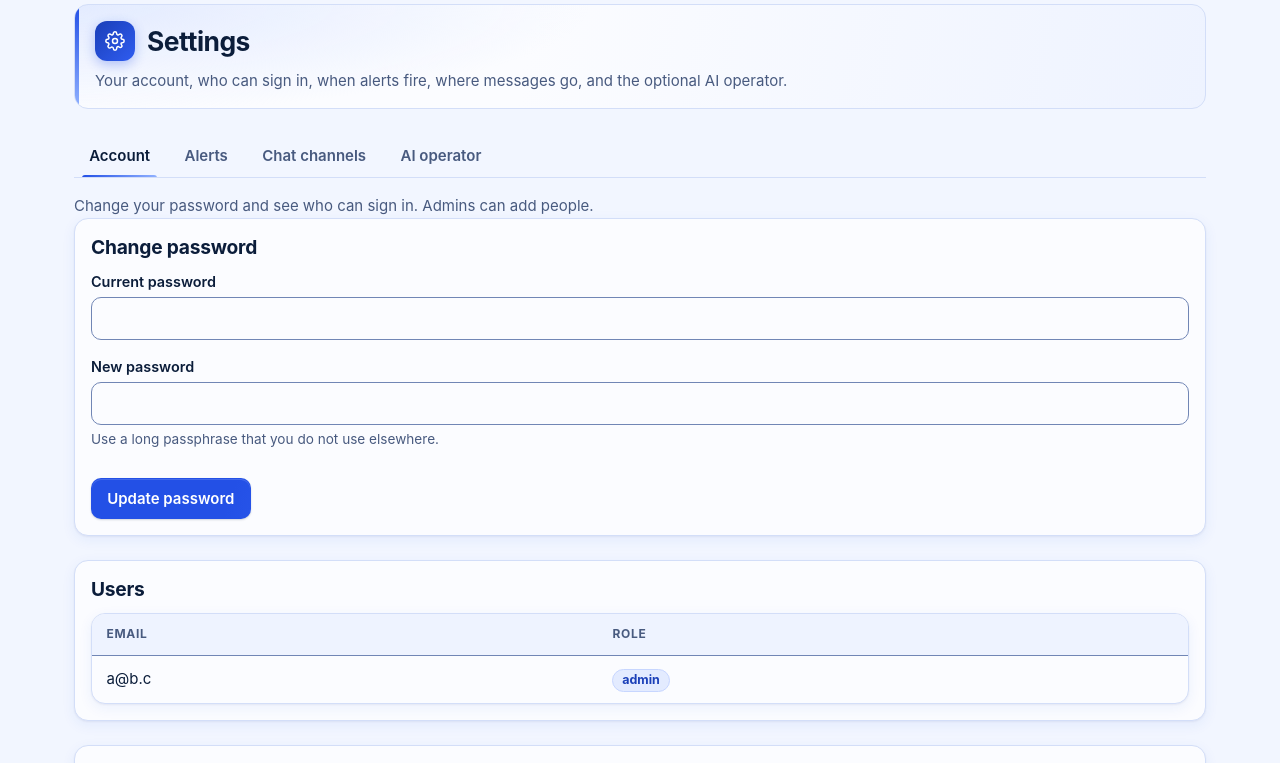
Test: Settings M6 › shows link code in memory and clears it without persisting
Click the tab "Chat channels" at (314, 155), box x1=247 y1=133 x2=381 y2=177
(page scrolled)
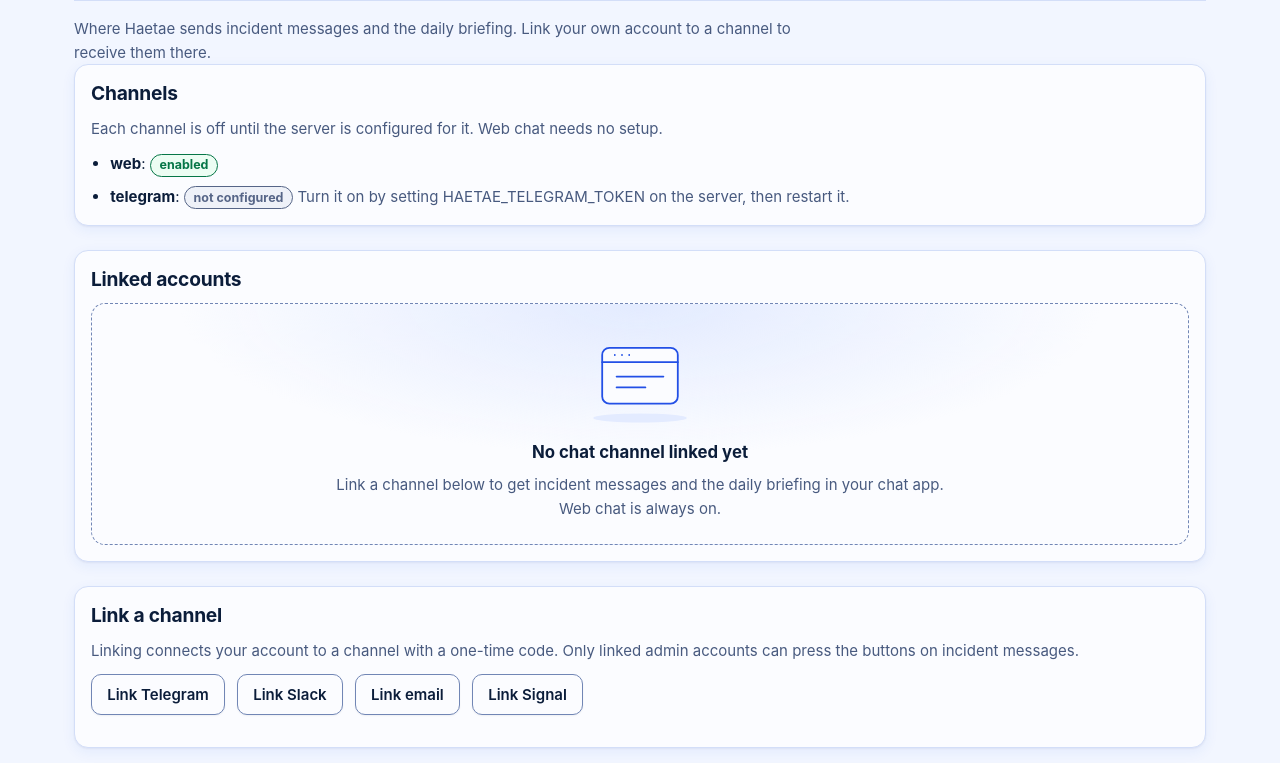
Check: the text "web" is shown, box x1=110 y1=154 x2=141 y2=173
Check: the text "HAETAE_TELEGRAM_TOKEN" is shown, box x1=443 y1=187 x2=645 y2=206
Click the button "Link Telegram" at (158, 695), box x1=91 y1=674 x2=225 y2=715
(page scrolled)
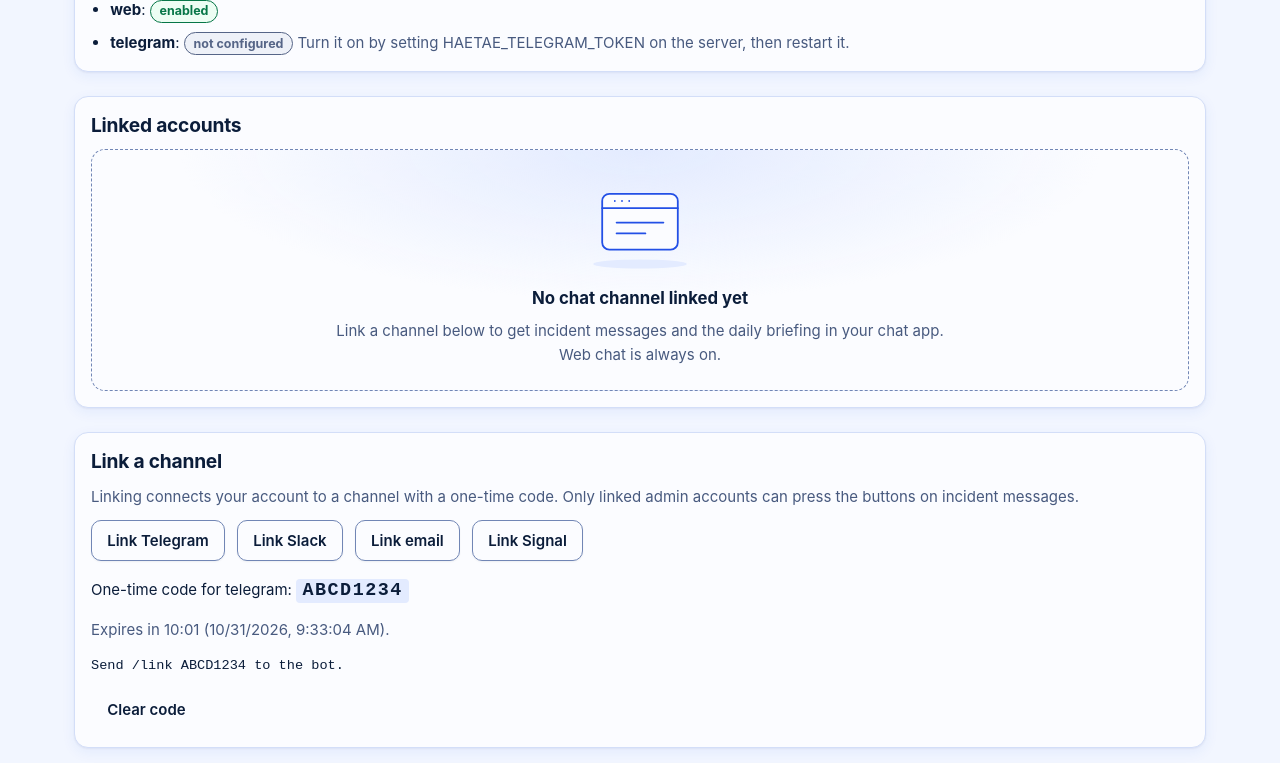
Check: the text "ABCD1234" is shown, box x1=296 y1=579 x2=409 y2=603
Check: the text "Send /link ABCD1234 to the bot." is shown, box x1=91 y1=658 x2=344 y2=673
Click the button "Clear code" at (146, 710), box x1=91 y1=689 x2=202 y2=731
(page scrolled)
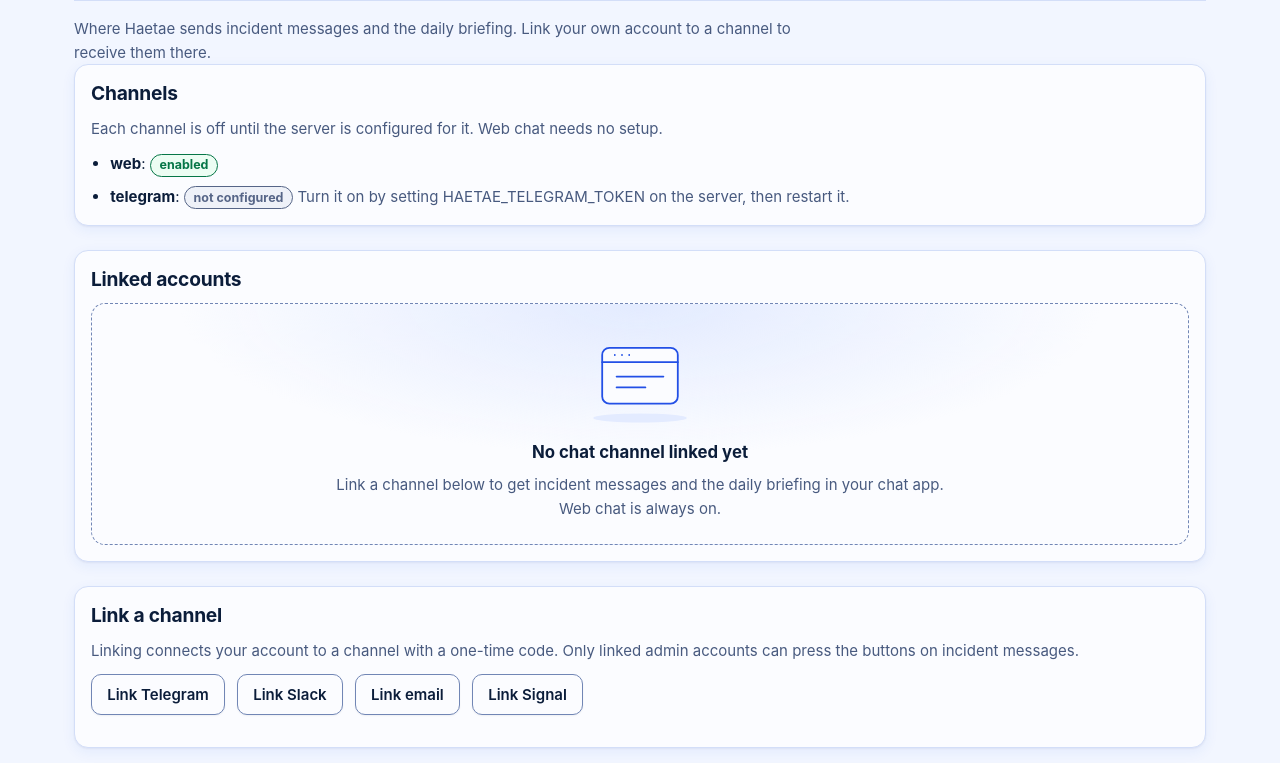
Check: the text "ABCD1234" is gone
